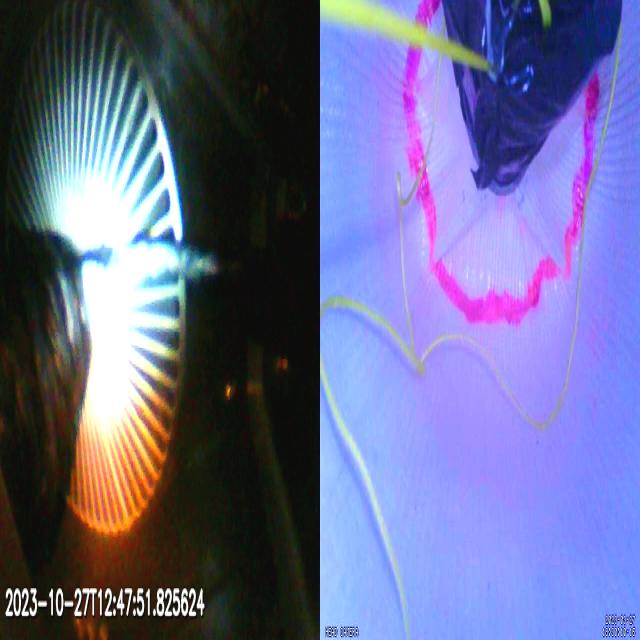red-circle: (403, 1, 600, 327)
